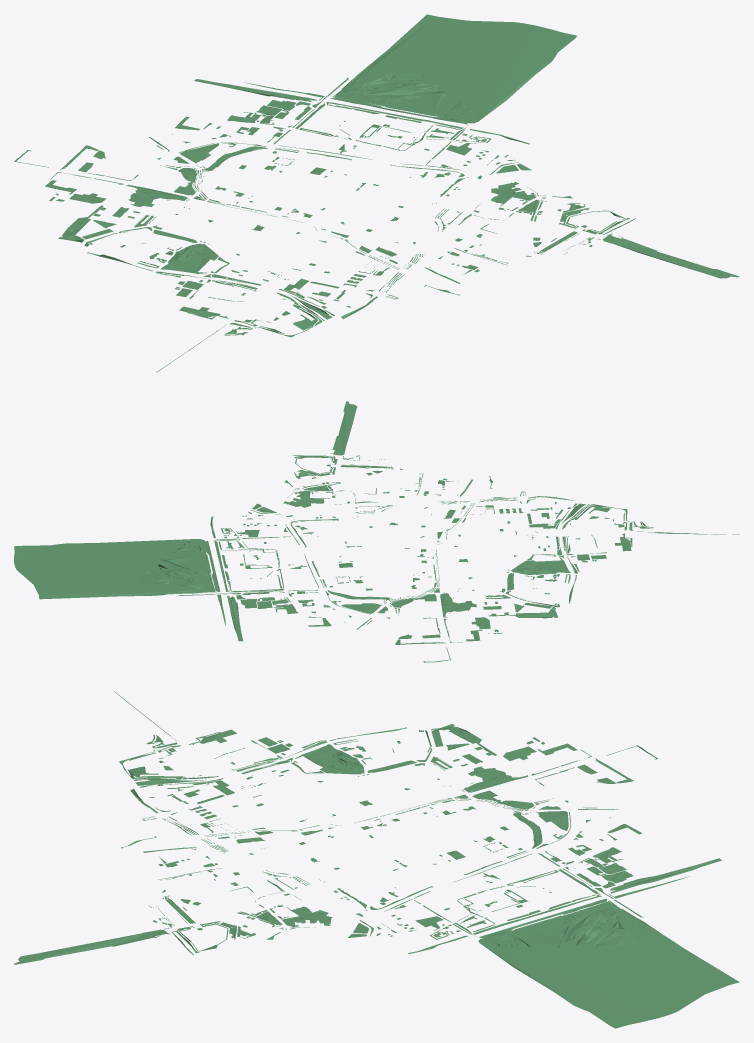
The model's file is green.glb.
3 renders of one model, top to bottom at view 1: azimuth 30°, elevation 25°; view 2: azimuth 150°, elevation 25°; view 3: azimuth 270°, elevation 25°, orthographic. The views are drawn at different scales.
Parts seen in each view (by area): view 1: green; view 2: green; view 3: green.
Boxes of the visible parts, x1,y1,x2,y2 form: green: (14, 14, 739, 372); green: (14, 401, 739, 662); green: (14, 691, 739, 1028).
Size of the model in its own units: 3800 by 25.98 by 3457.
